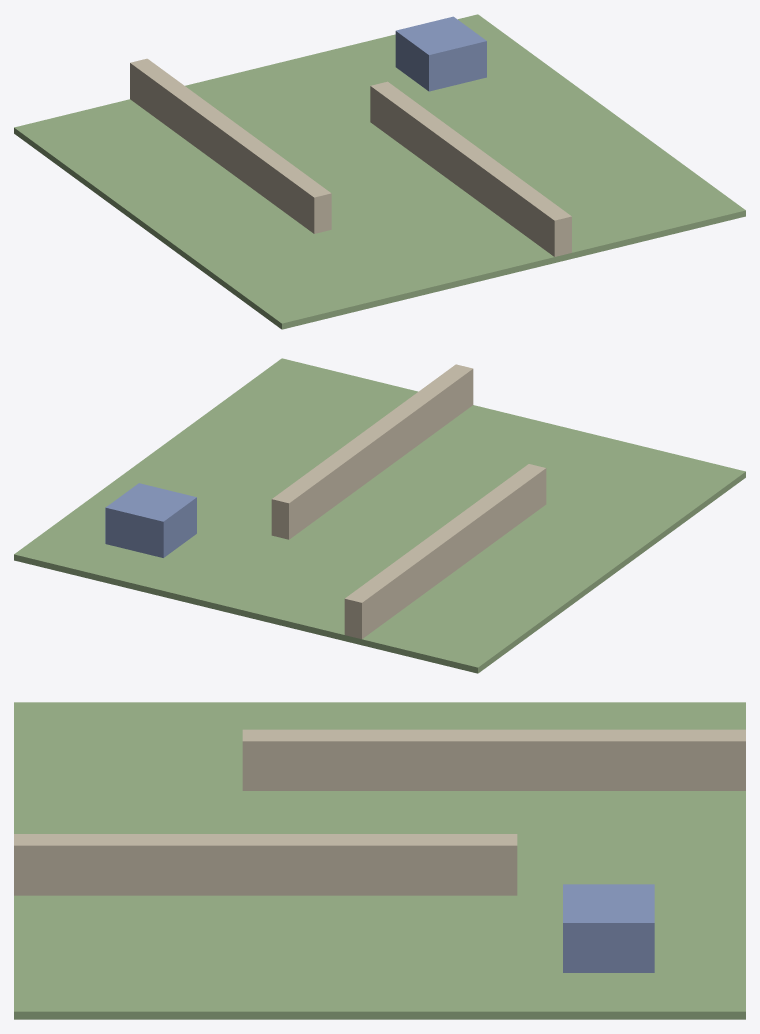
The model's file is level.obj.
3 renders of one model, top to bottom at view 1: azimuth 30°, elevation 25°; view 2: azimuth 150°, elevation 25°; view 3: azimuth 270°, elevation 25°, orthographic. The views are drawn at different scales.
Visible parts, largest first — view 1: floor, wall_w, wall_e, block; view 2: floor, wall_w, wall_e, block; view 3: floor, wall_e, wall_w, block.
Boxes of the visible parts, x1=… form: floor: x1=14, y1=14, x2=745, y2=329; wall_w: x1=130, y1=58, x2=331, y2=233; wall_e: x1=370, y1=81, x2=571, y2=256; block: x1=395, y1=16, x2=486, y2=91; floor: x1=14, y1=358, x2=745, y2=673; wall_w: x1=344, y1=464, x2=546, y2=639; wall_e: x1=271, y1=364, x2=473, y2=539; block: x1=105, y1=483, x2=196, y2=557; floor: x1=14, y1=702, x2=745, y2=1019; wall_e: x1=14, y1=834, x2=517, y2=895; wall_w: x1=242, y1=729, x2=745, y2=790; block: x1=563, y1=884, x2=654, y2=972.
Size of the model in its own units: 16 by 1.4 by 16.
